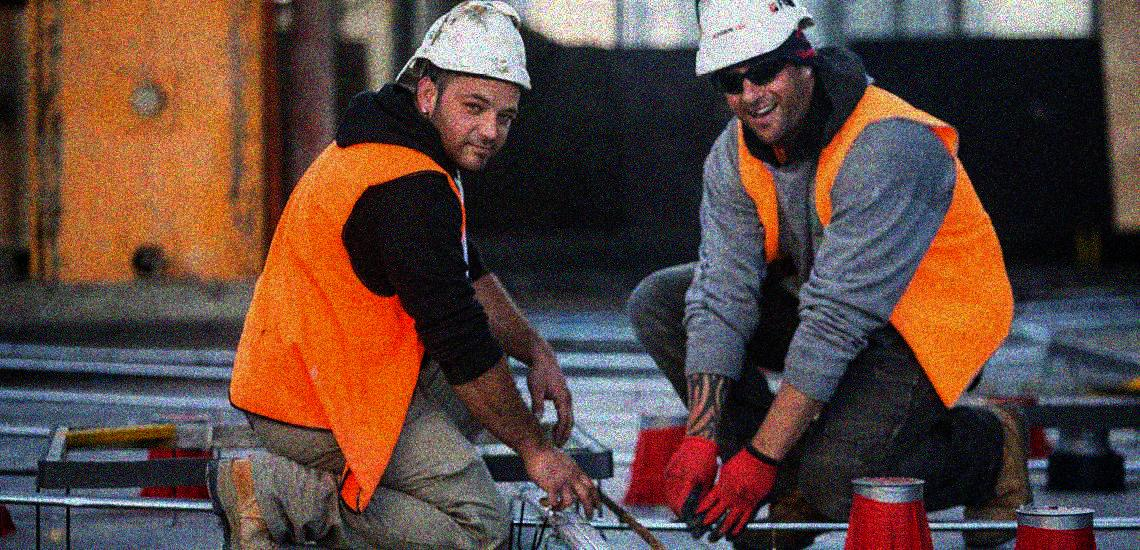helmet: (407, 6, 536, 175), (694, 1, 820, 137)
